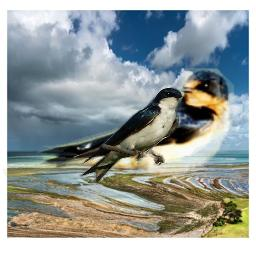Swallow: (2, 68, 234, 188), (73, 87, 183, 182)
